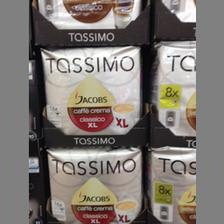Kaffee: (39, 46, 143, 134), (46, 146, 142, 222)
